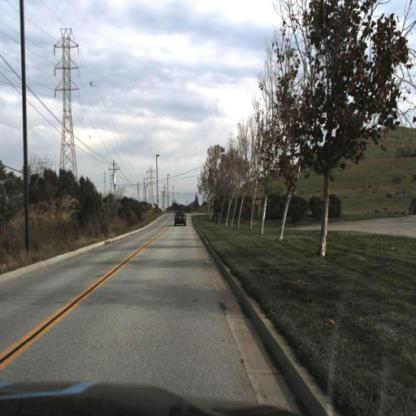car: (173, 208, 192, 235)
